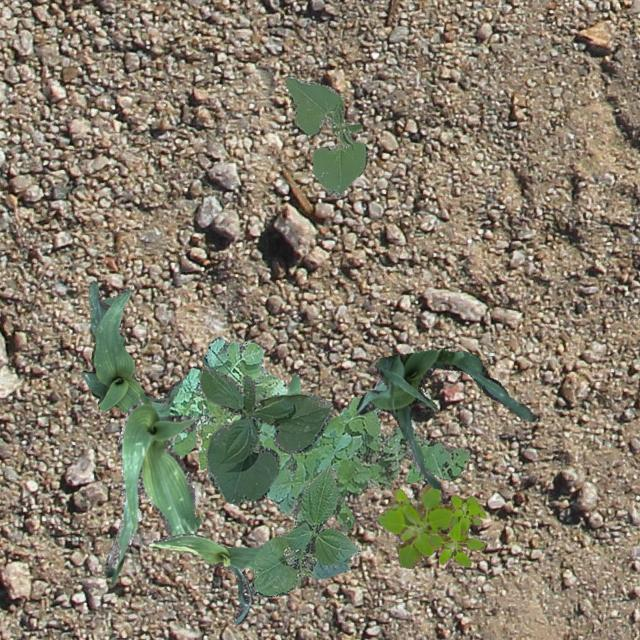crop: (356, 346, 534, 488), (102, 392, 200, 584), (198, 366, 332, 504), (250, 464, 360, 596), (148, 532, 302, 624), (80, 279, 180, 416), (284, 74, 366, 198), (286, 372, 300, 393)
weed: (168, 336, 468, 530), (376, 482, 452, 568), (426, 494, 484, 566)
